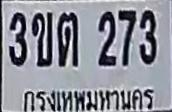2: (98, 12, 116, 64)
3: (138, 9, 156, 63), (8, 11, 26, 65)
7: (118, 9, 135, 64)
A02: (29, 10, 54, 68)
A21: (57, 12, 78, 66)
BKK: (19, 87, 158, 112)
